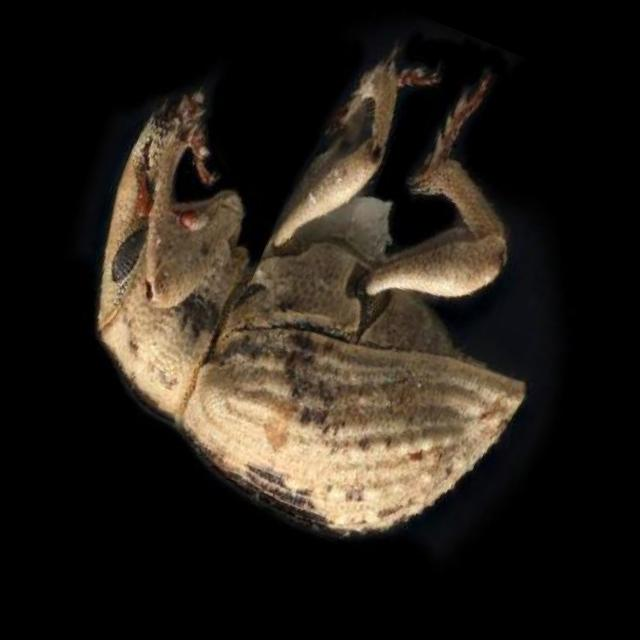rice-bug: (23, 0, 632, 579)
